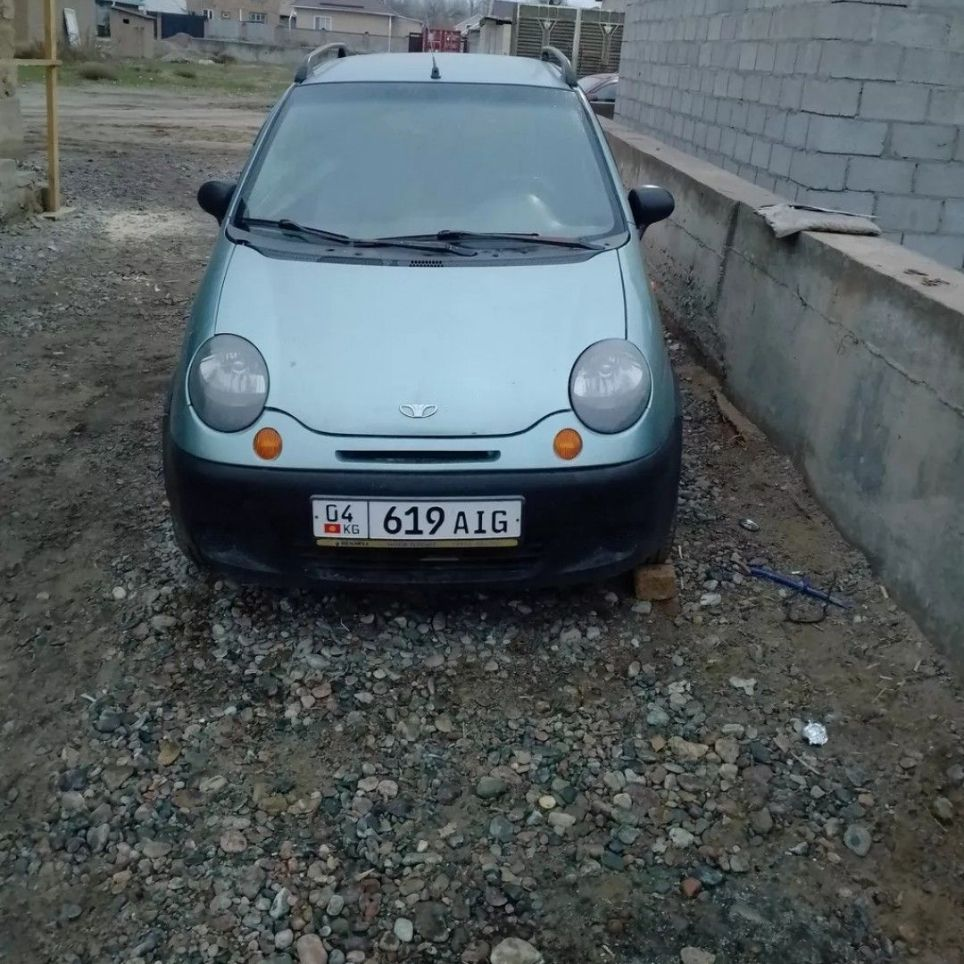license plate: (309, 497, 524, 539)
truck: (167, 53, 675, 589)
